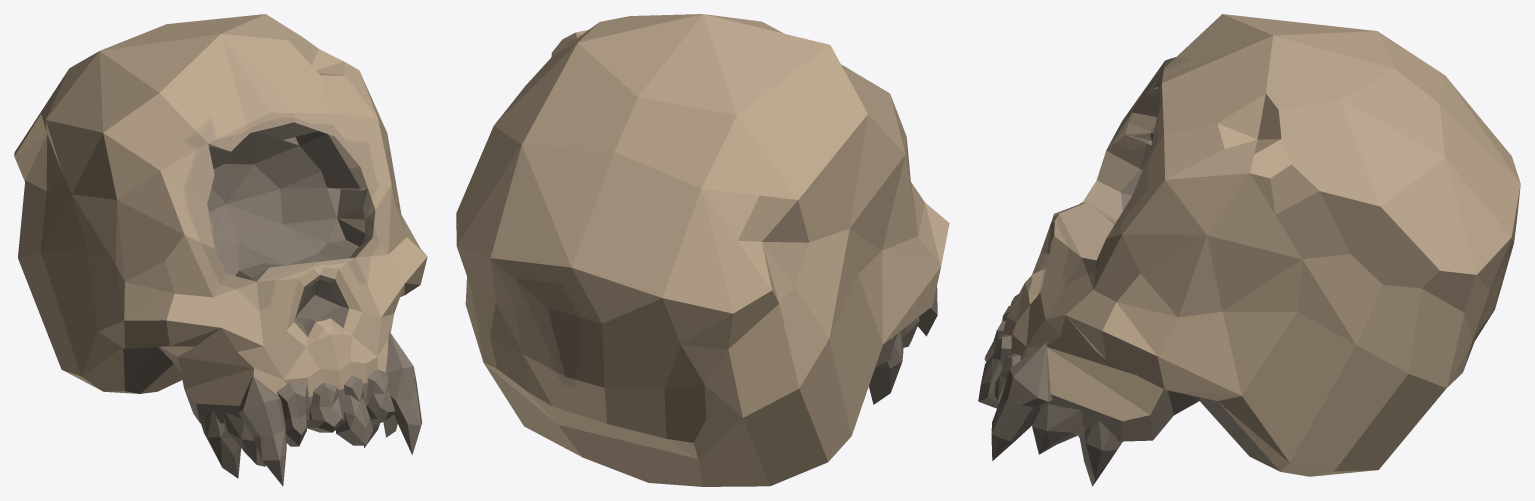
Rendered from isle_skull.gltf.
3 renders of one model, left to right at view 1: azimuth 30°, elevation 25°; view 2: azimuth 150°, elevation 25°; view 3: azimuth 270°, elevation 25°, orthographic. The views are drawn at different scales.
Parts seen in each view (by area): view 1: isle_skull; view 2: isle_skull; view 3: isle_skull.
Part boxes in pixels (x1,y1,x2,y2): isle_skull: (14, 14, 427, 486); isle_skull: (456, 14, 949, 486); isle_skull: (978, 14, 1520, 486).
Size of the model in its own units: 1.73 by 2.07 by 2.44.
1 material, 1 textured.
